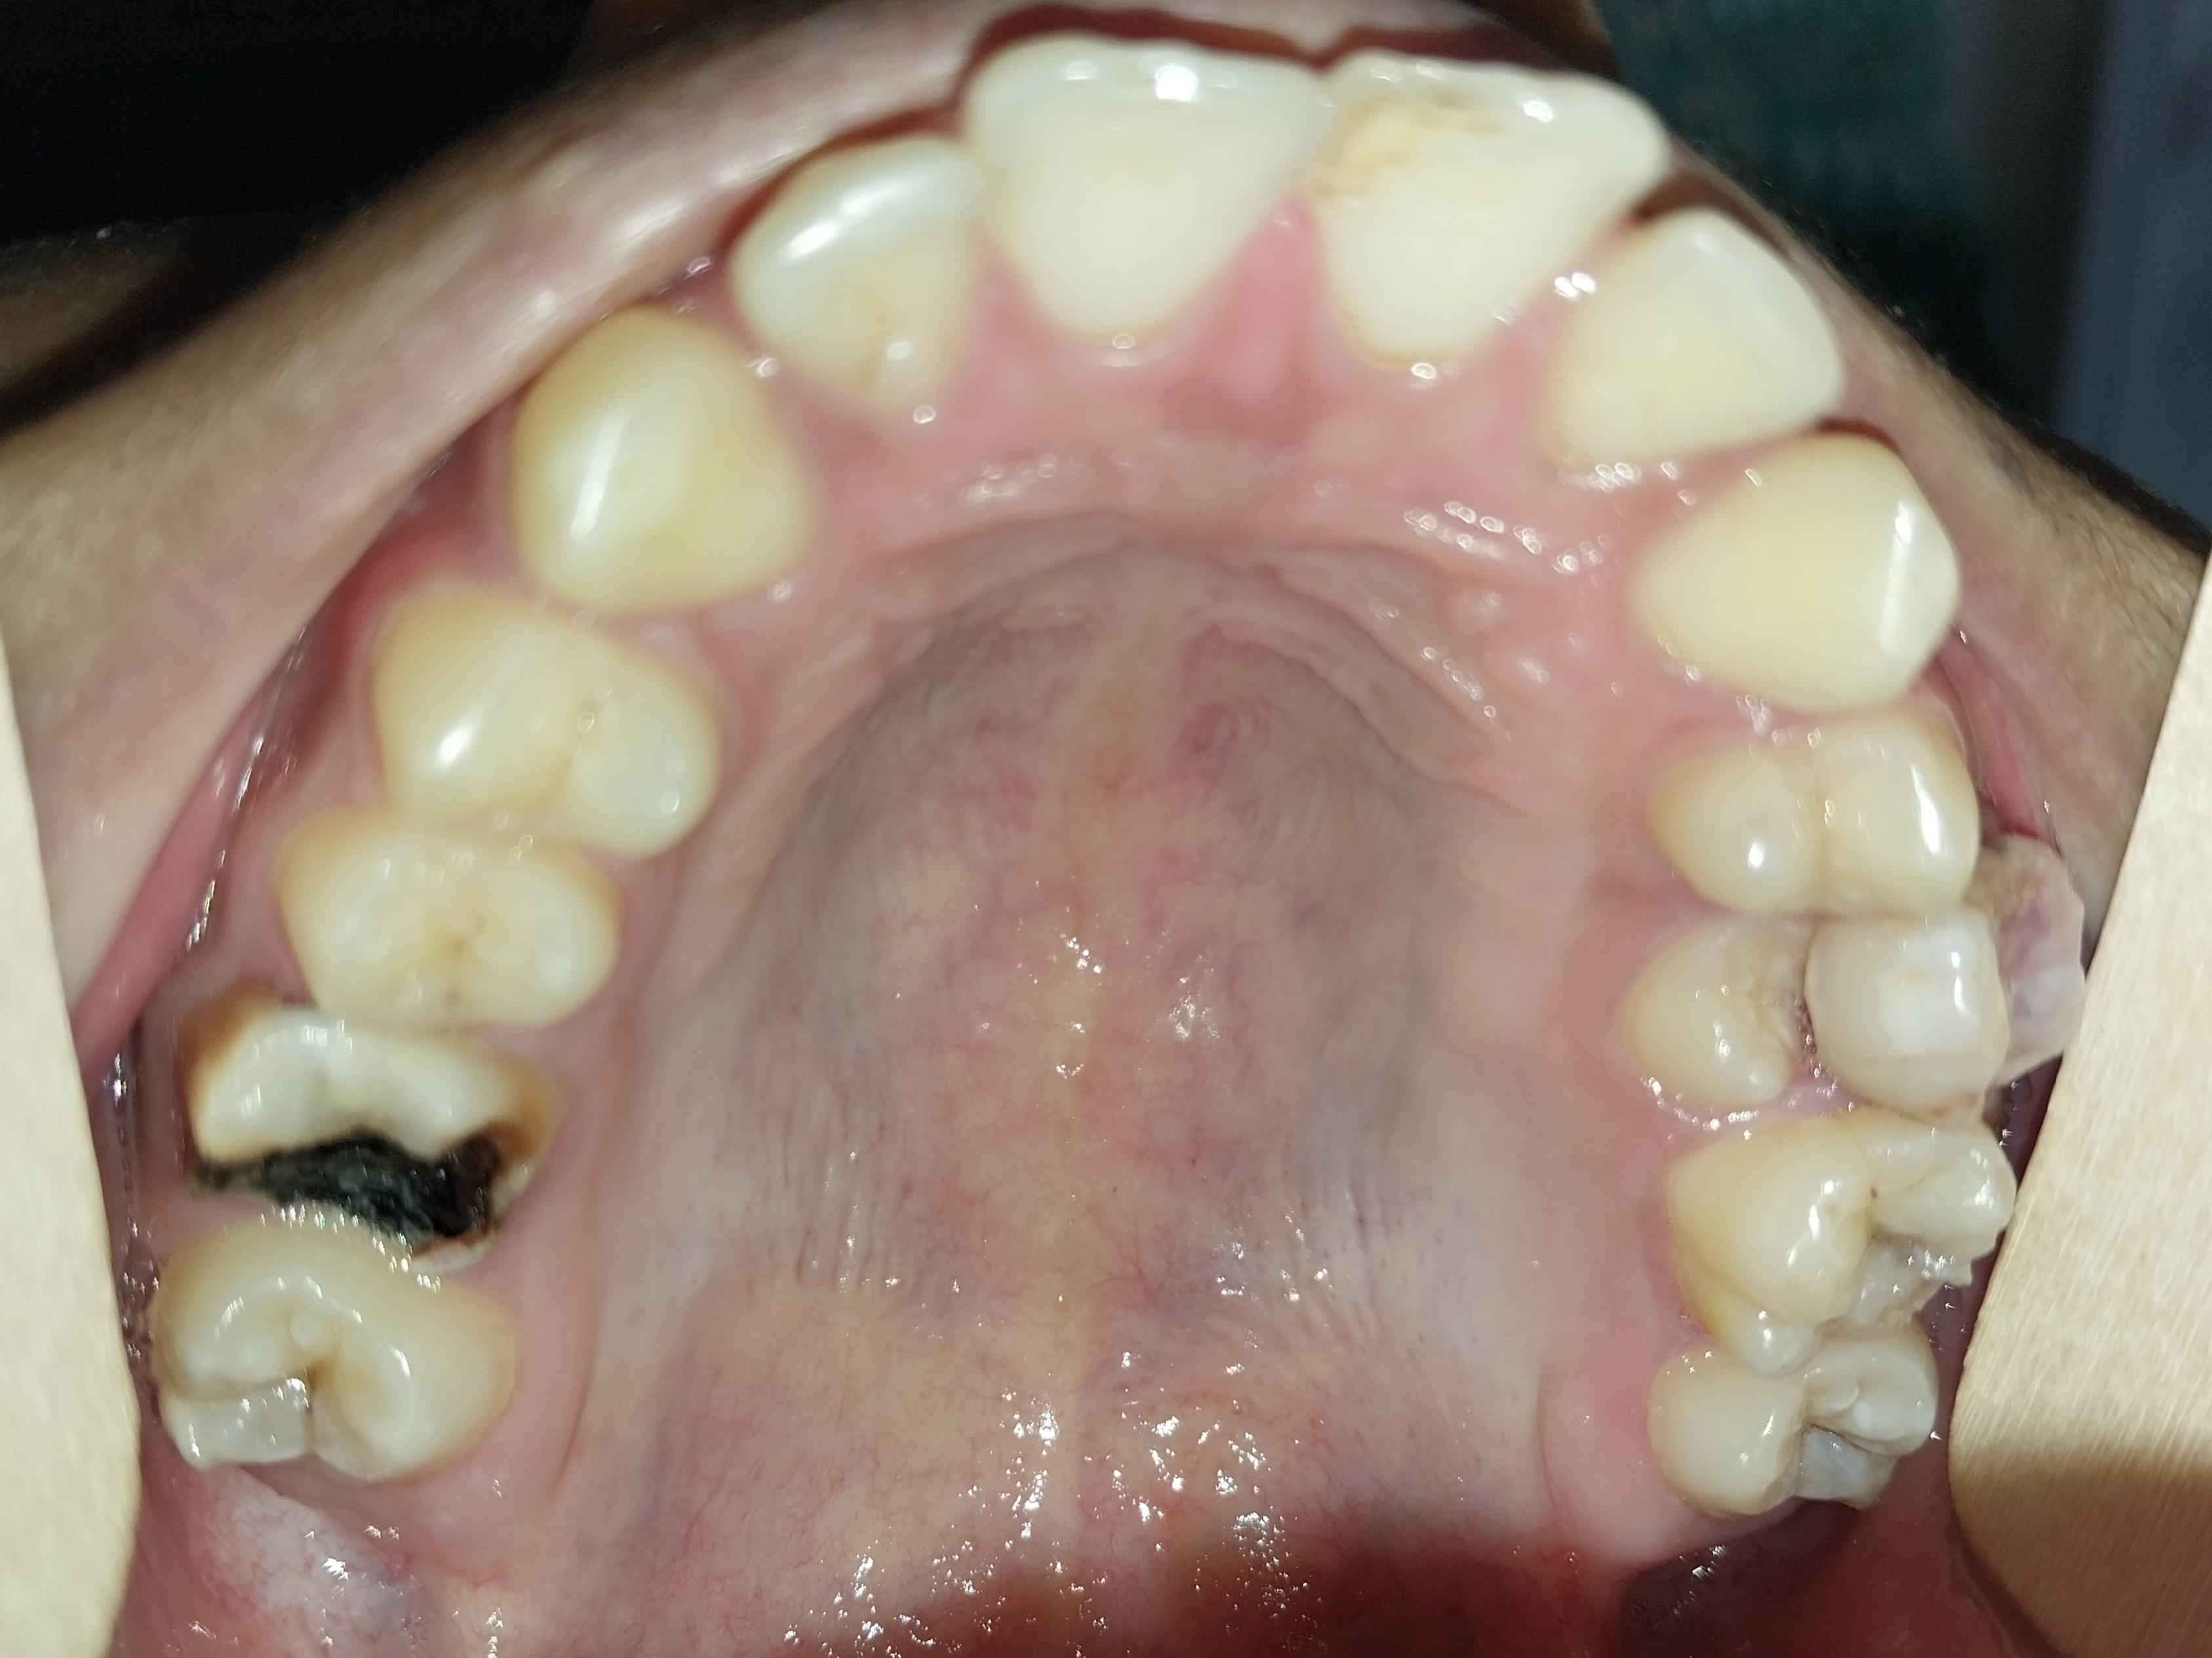D: (179, 994, 547, 1265)
d: (1821, 843, 2086, 1131)
